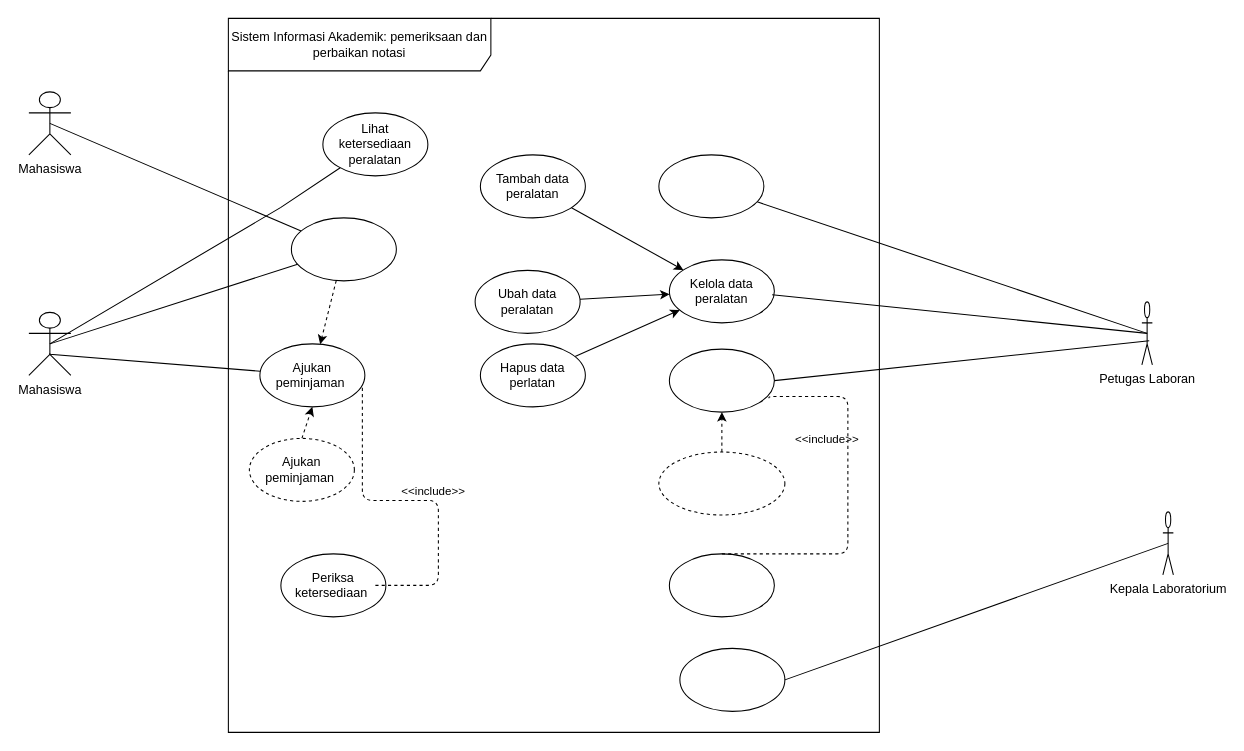
This 1244x751 diagram has some shape labels left out. Here are the shapes that lost their labels. From the top down, the centre of each, then its label:
the point at 711,186: Proses keputusan peminjaman
the point at 343,249: Cetak bukti pengajuan
the point at 721,380: Catat pengembalian
the point at 721,483: catat pengembalian peralatan
the point at 721,585: Periksa kondisi perlatan
the point at 732,679: Lihat Laporan Peminjaman
